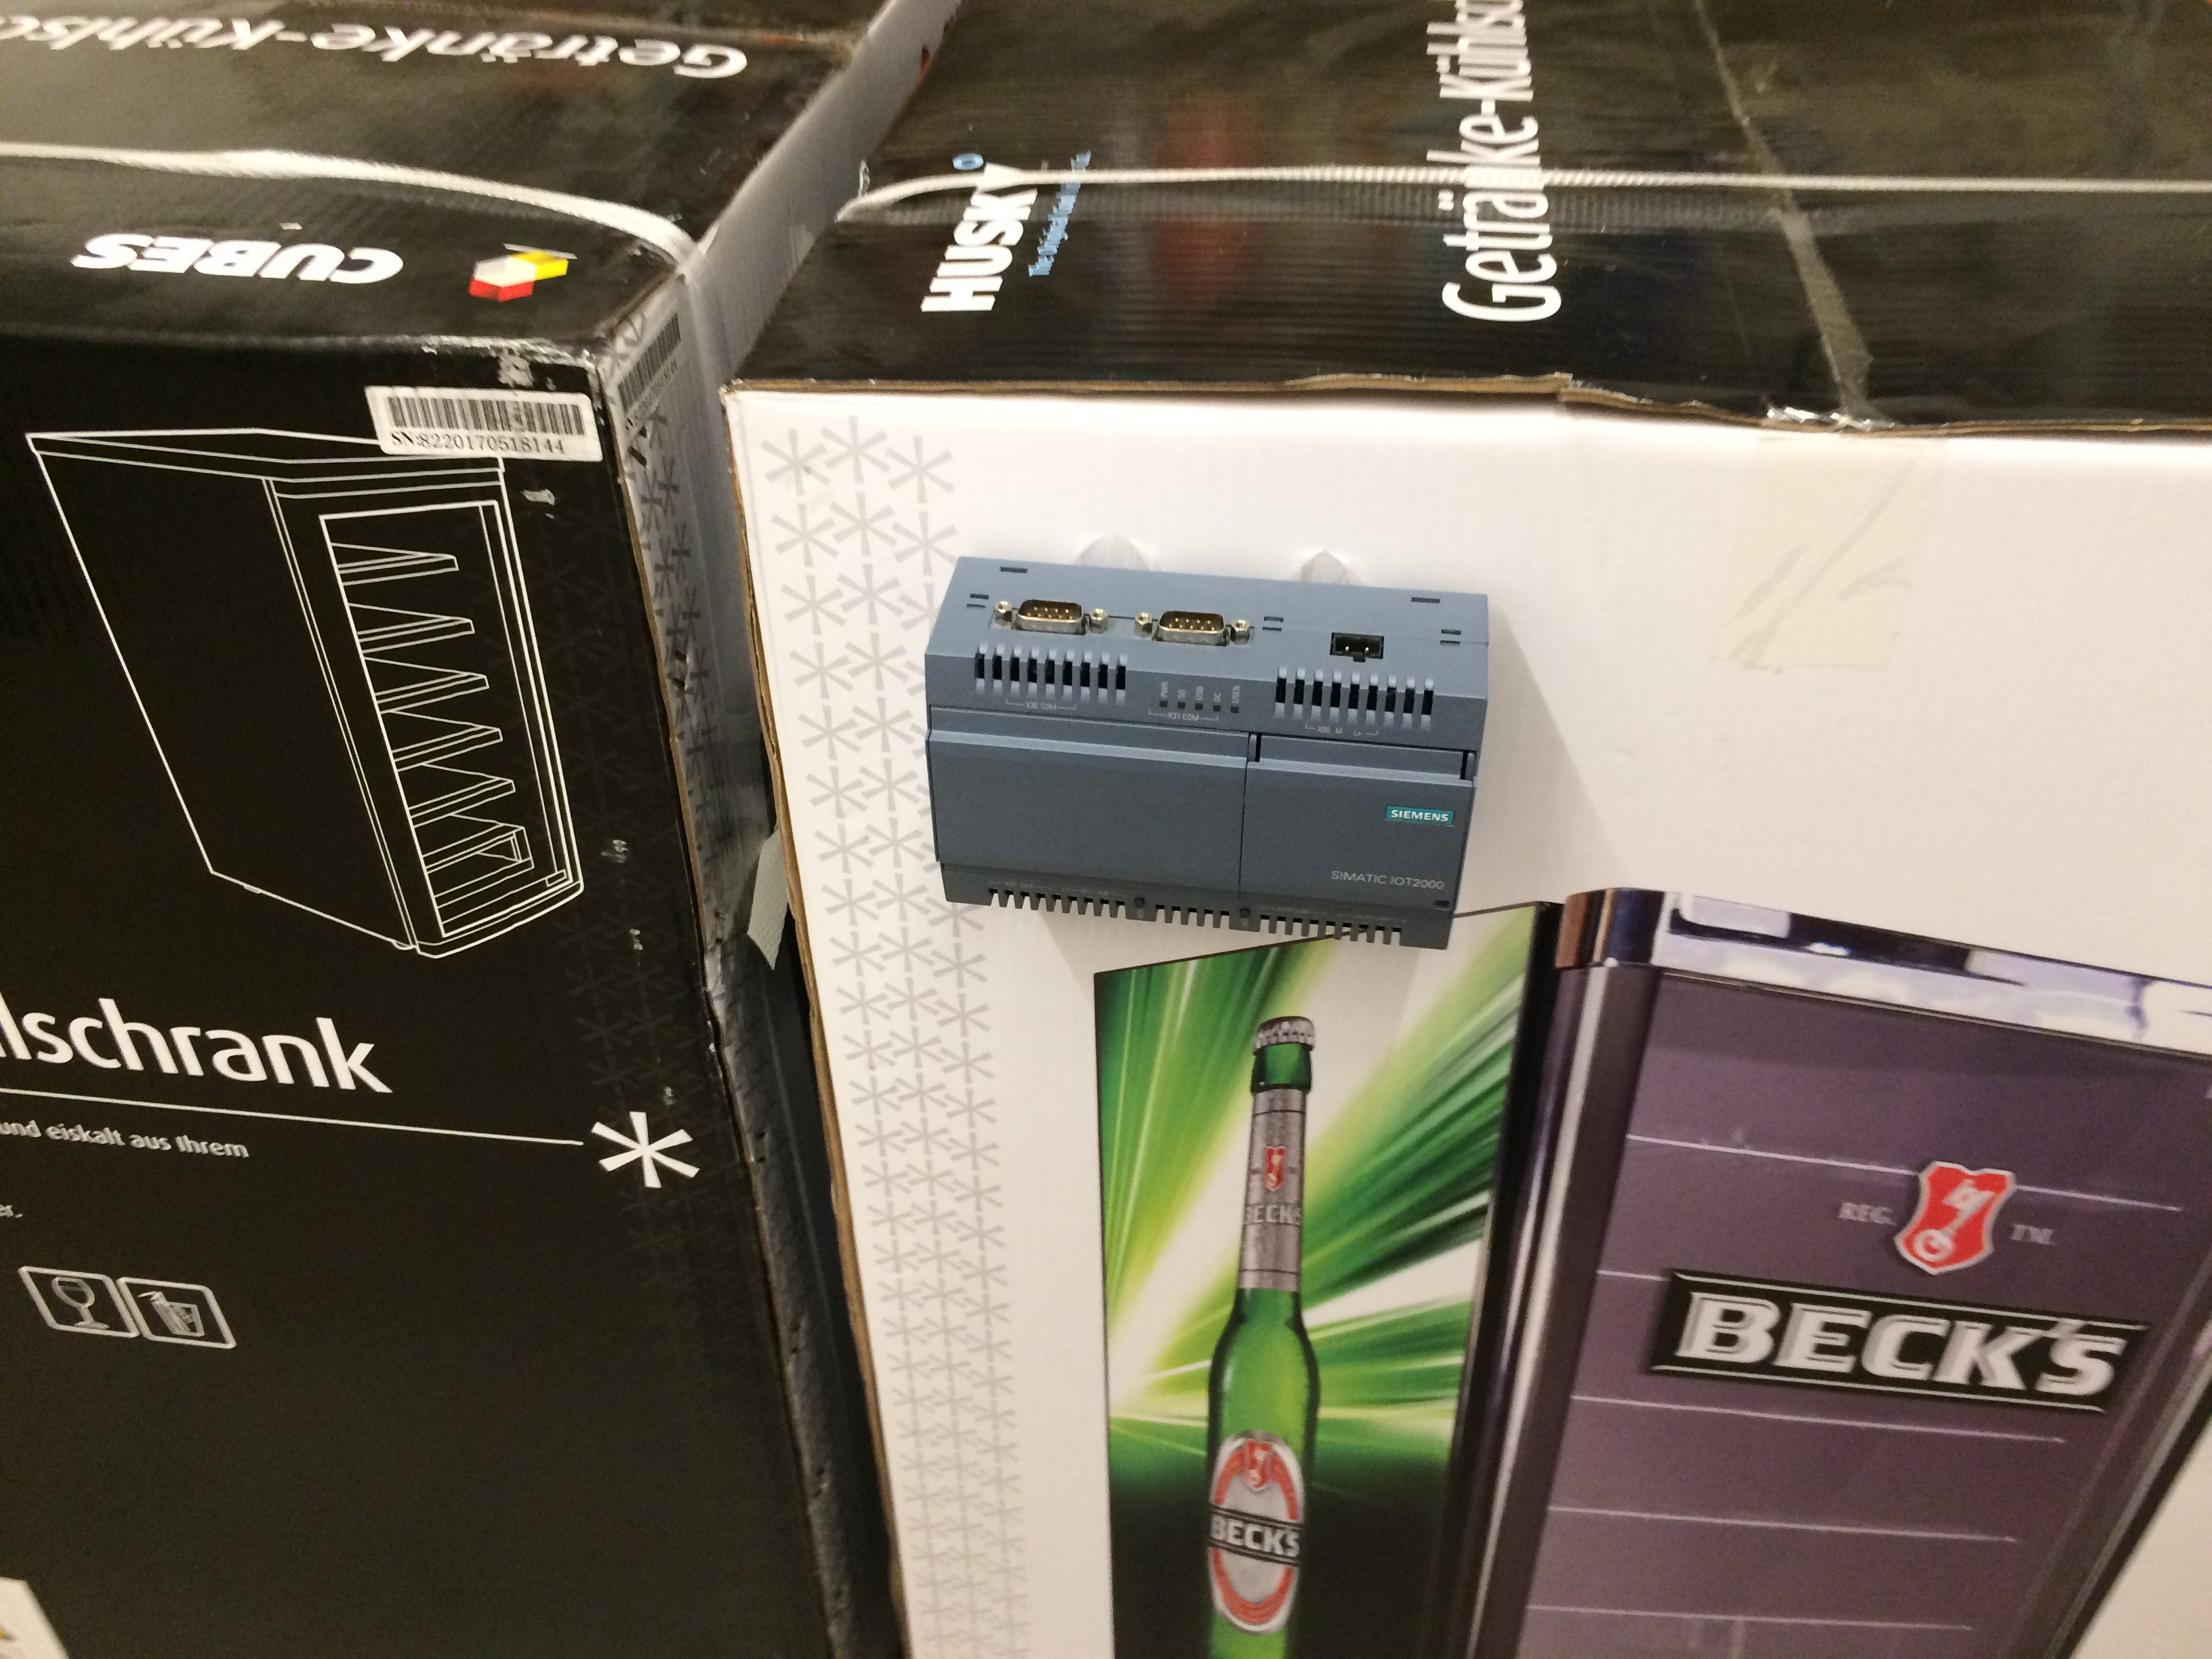iot2000: (920, 551, 1494, 955)
